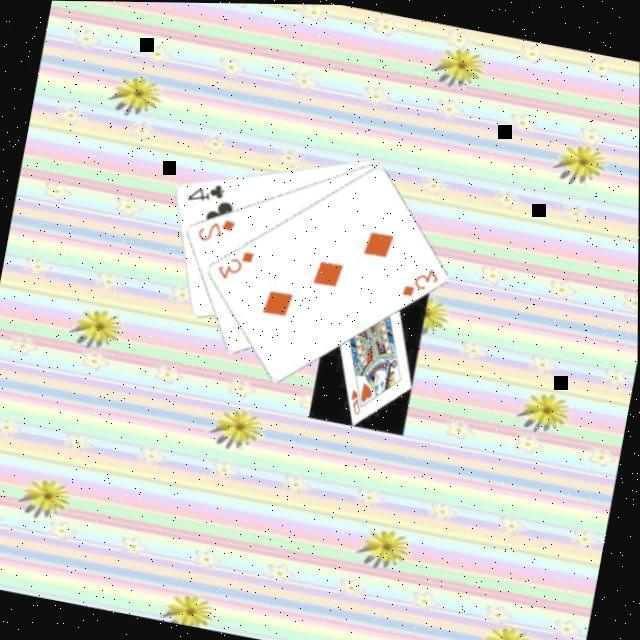2D: (194, 211, 240, 250)
3D: (213, 243, 259, 288), (399, 259, 444, 304)
4C: (184, 176, 230, 210)
